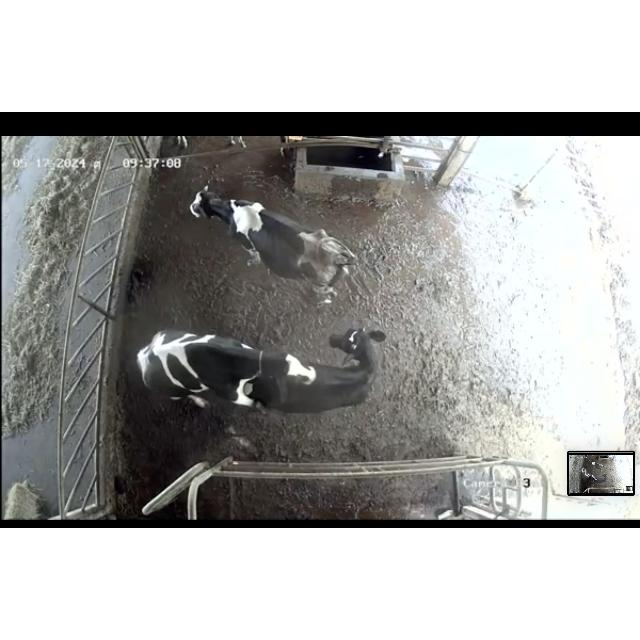ride: (128, 326, 316, 420)
stand: (185, 180, 372, 300), (269, 322, 413, 426)
